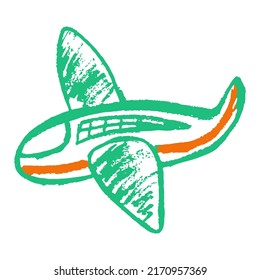airplane: (14, 26, 246, 234)
